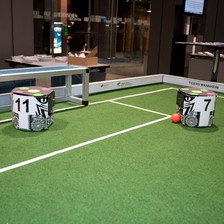ball: (169, 111, 180, 124)
robot: (8, 84, 55, 133), (177, 84, 215, 126)
